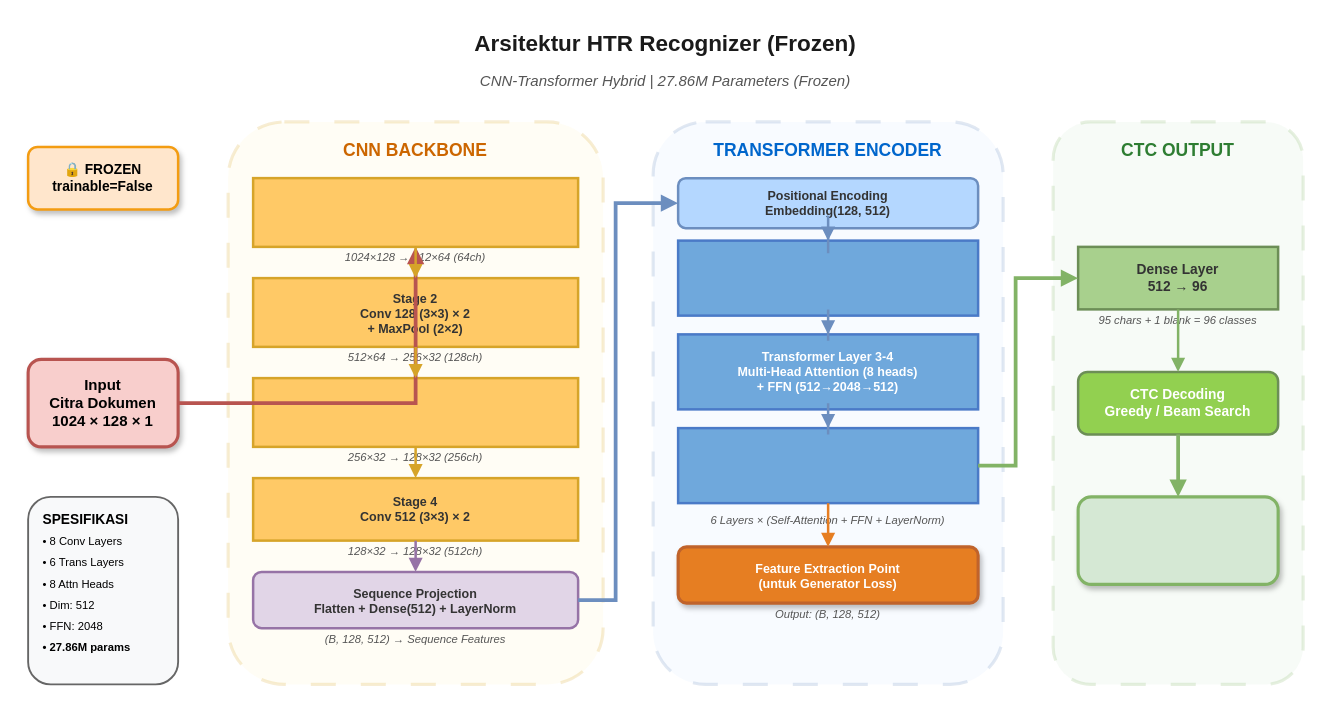
This 1326x708 diagram has some shape labels left out. Here are the shapes that lost their labels. From the top down, the centre of each, then its label:
[415,212]: Stage 1 Conv 64 (7×7) + Conv 64 (3×3) + MaxPool (2×2)
[827,277]: Transformer Layer 1-2 Multi-Head Attention (8 heads) + FFN (512→2048→512)
[415,412]: Stage 3 Conv 256 (3×3) × 2 + MaxPool (2×1)
[827,465]: Transformer Layer 5-6 Multi-Head Attention (8 heads) + FFN (512→2048→512)
[1179,542]: Output Teks Prediksi (max 128 chars)
